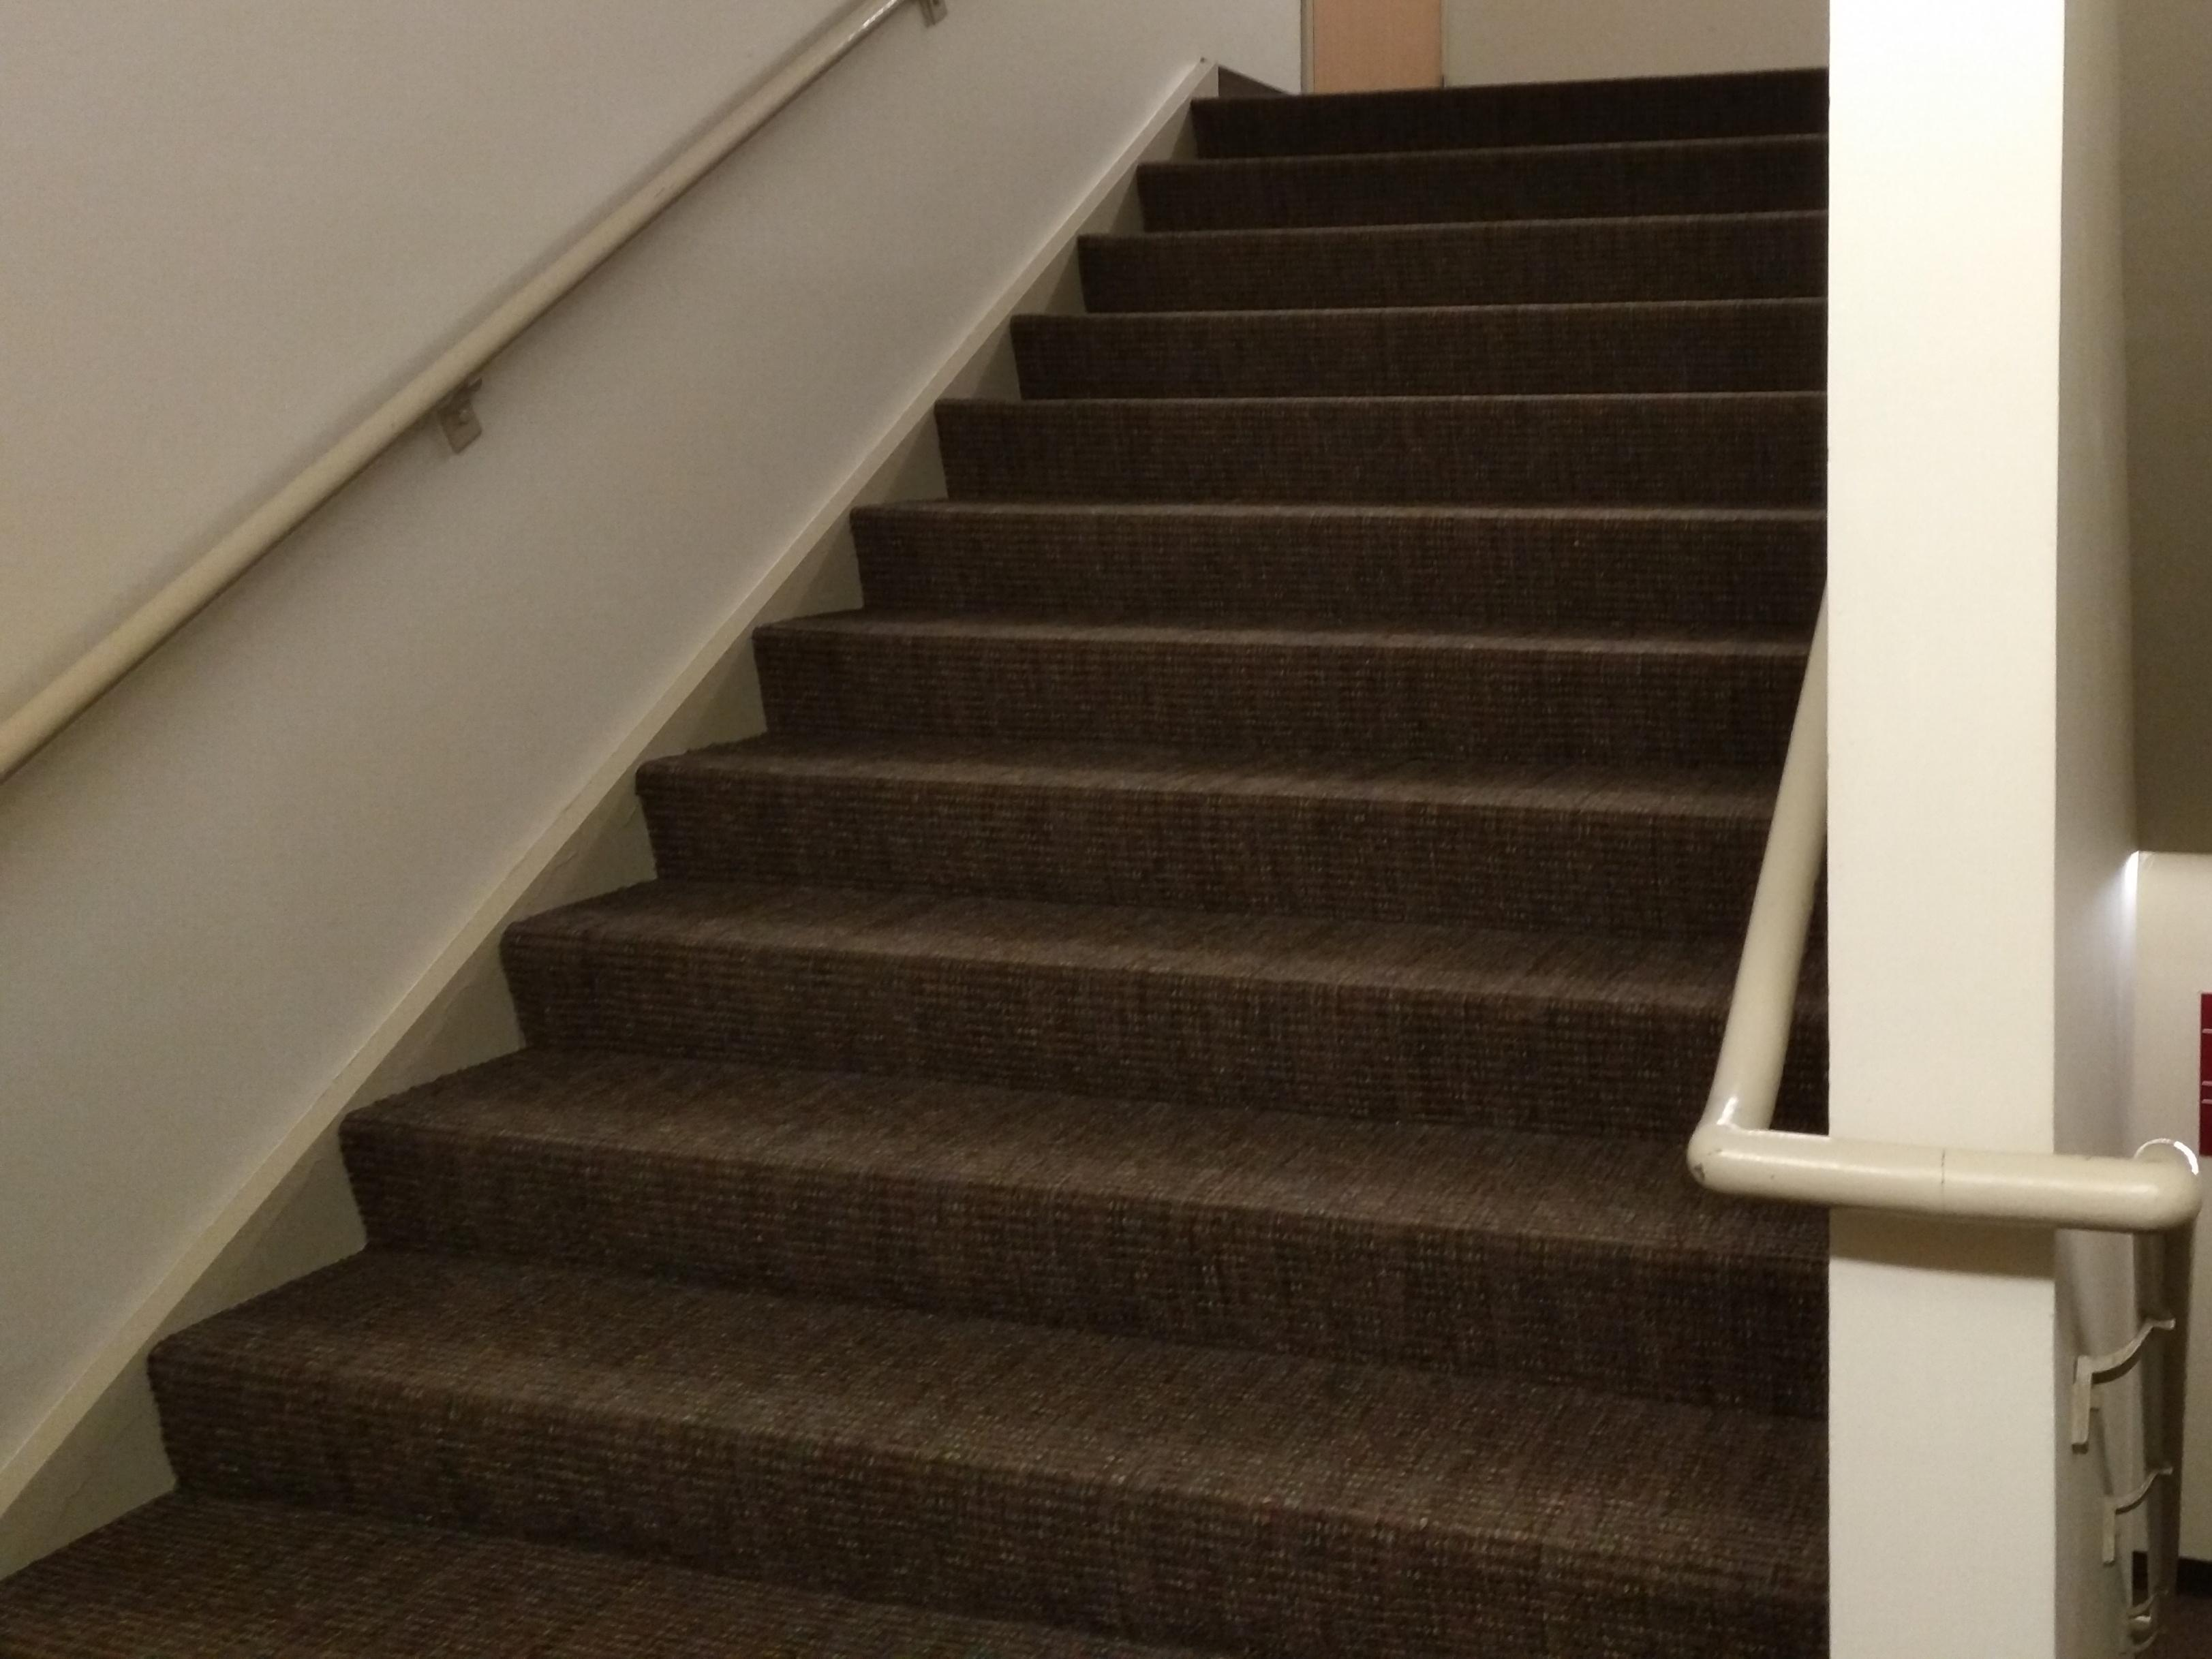stairs_up: (106, 52, 1842, 1638)
